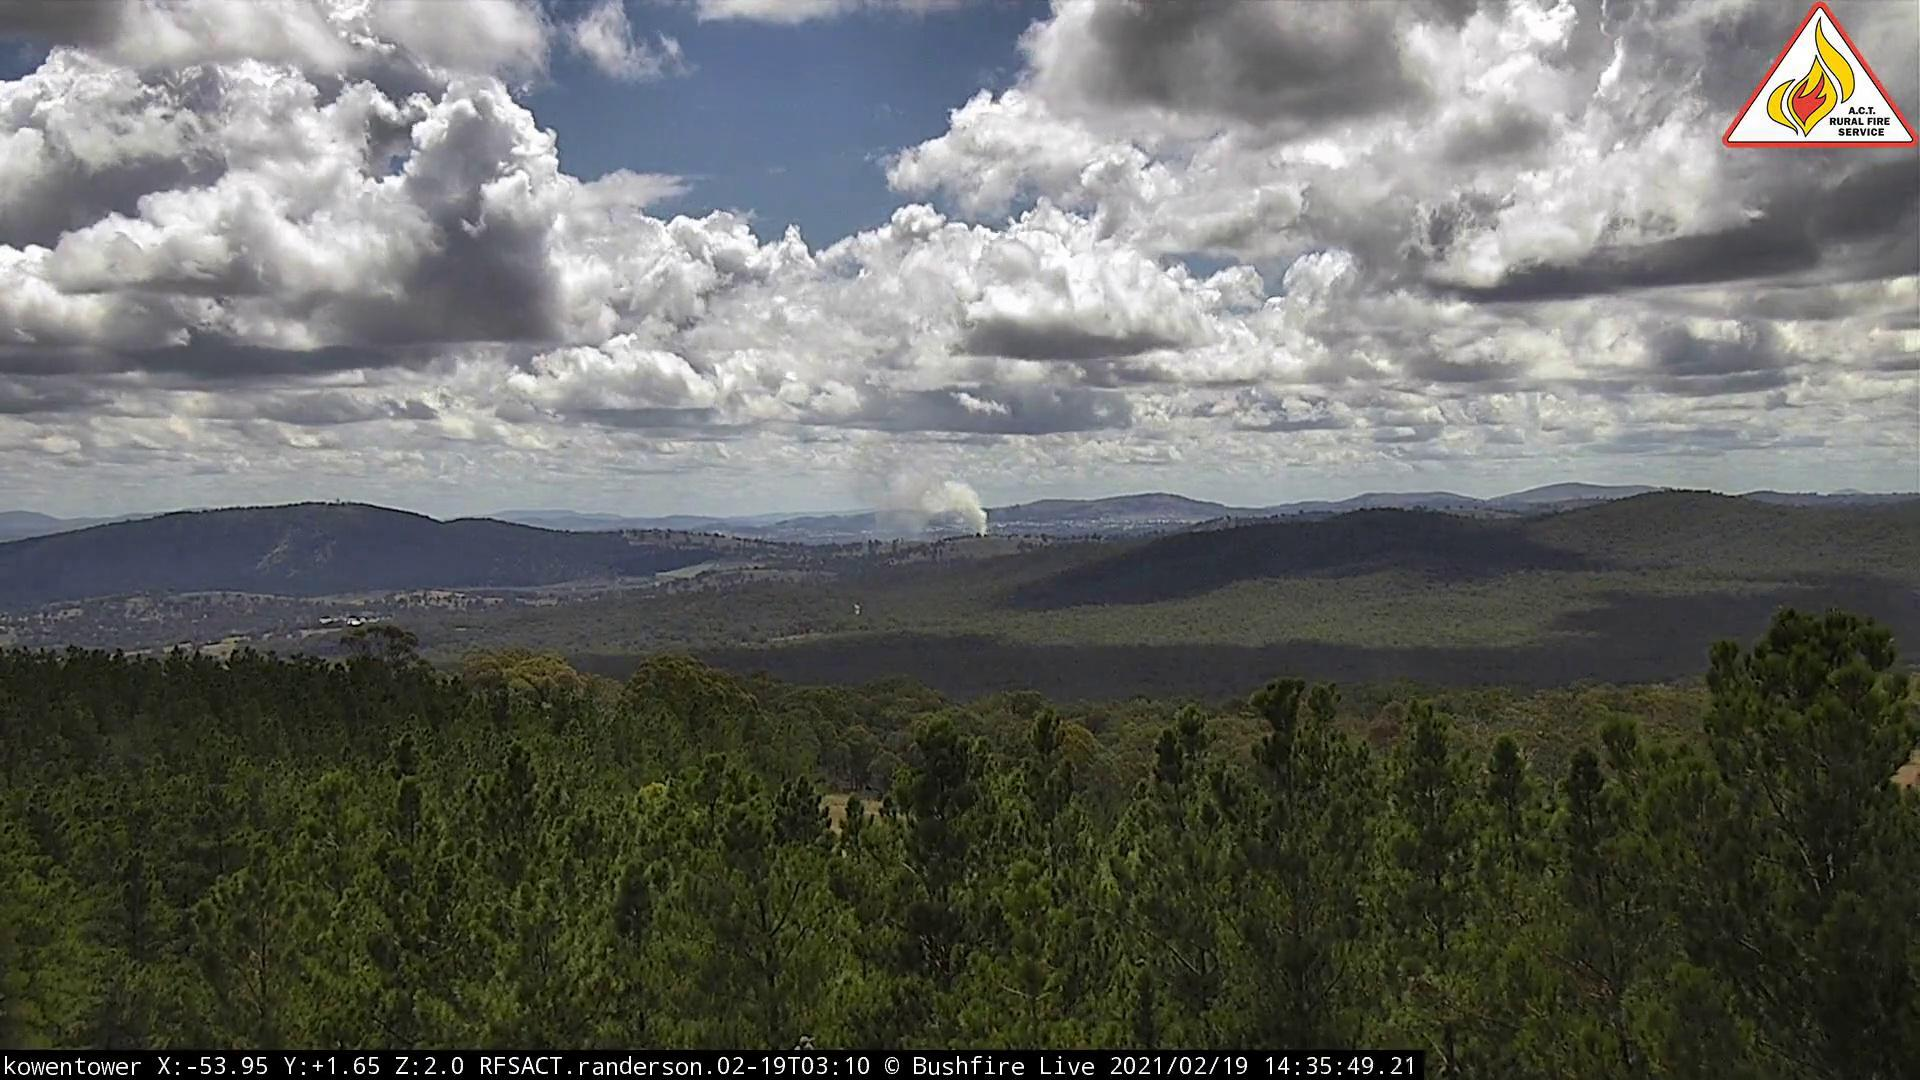Smoke: (841, 450, 993, 542)
